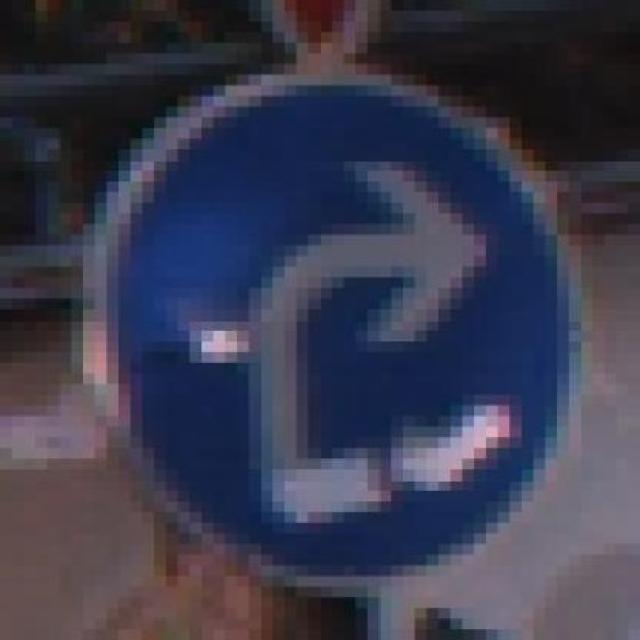Turn right ahead: (83, 64, 580, 598)
